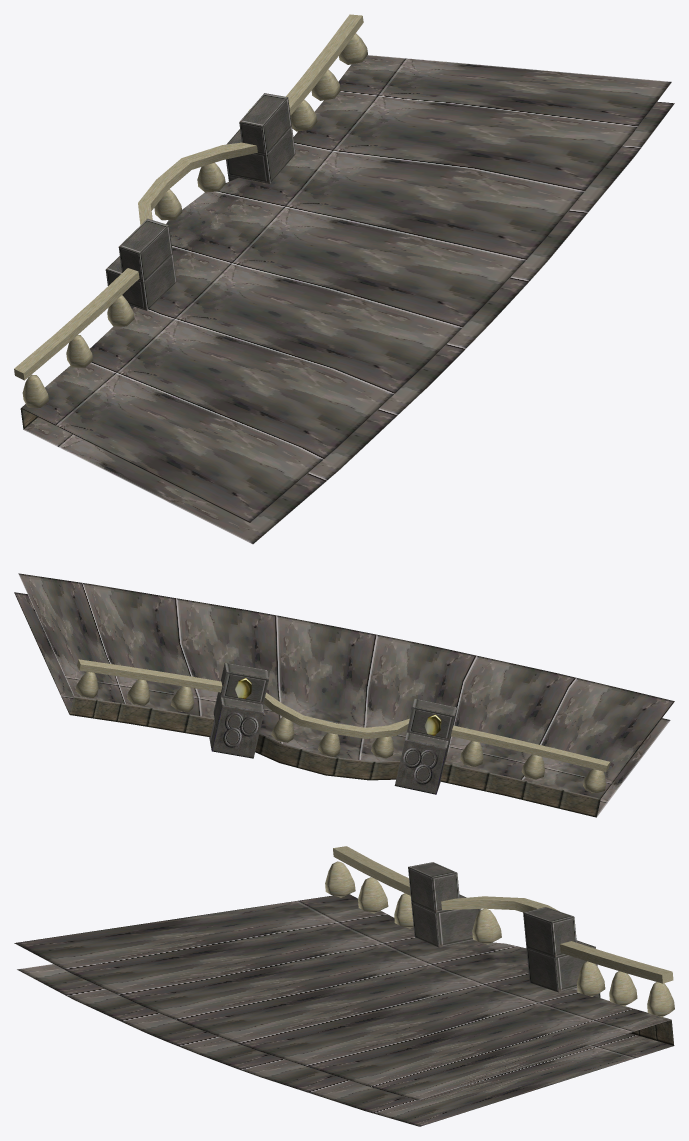
The model's file is CH09_SMAUG_PLAYSURFACE_LAIR32.fbx.
3 renders of one model, top to bottom at view 1: azimuth 30°, elevation 25°; view 2: azimuth 150°, elevation 25°; view 3: azimuth 270°, elevation 25°, orthographic. The views are drawn at different scales.
Parts seen in each view (by area): view 1: CH09_SMAUG_PLAYSURFACE_LAIR32; view 2: CH09_SMAUG_PLAYSURFACE_LAIR32; view 3: CH09_SMAUG_PLAYSURFACE_LAIR32.
Part boxes in pixels (x1,y1,x2,y2): CH09_SMAUG_PLAYSURFACE_LAIR32: [14, 14, 674, 544]; CH09_SMAUG_PLAYSURFACE_LAIR32: [14, 573, 674, 817]; CH09_SMAUG_PLAYSURFACE_LAIR32: [14, 846, 674, 1126].
Size of the model in its own units: 186876 by 51188 by 147648.
5 materials, 5 textured.
